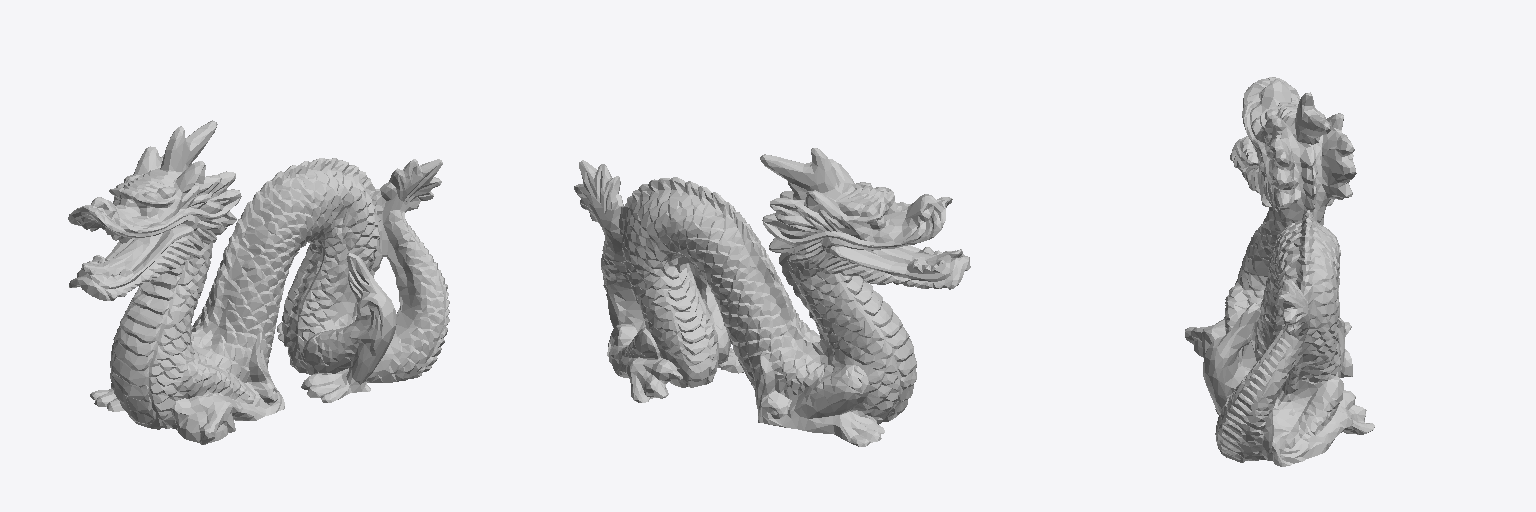
File: dragon.obj
3 views of the same model, side by side, from view 1: azimuth 30°, elevation 25°; view 2: azimuth 150°, elevation 25°; view 3: azimuth 270°, elevation 25° (orthographic).
Visible parts, largest first — view 1: Stanford_dragon; view 2: Stanford_dragon; view 3: Stanford_dragon.
Part boxes in pixels (x1,y1,x2,y2): Stanford_dragon: (68,120,449,444); Stanford_dragon: (574,148,970,446); Stanford_dragon: (1185,77,1374,466).
Size of the model in its own units: 26.65 by 18.05 by 11.63.